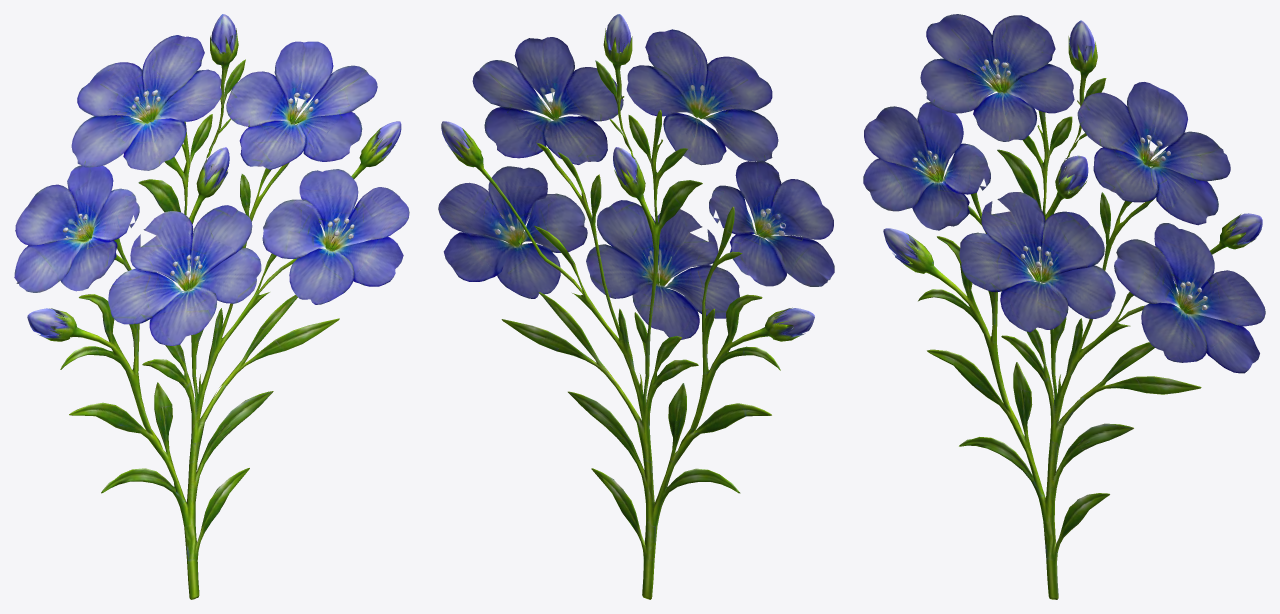
File: flax.glb
The picture shows the model from 3 angles, left to right: view 1: azimuth 30°, elevation 25°; view 2: azimuth 150°, elevation 25°; view 3: azimuth 330°, elevation 25°; orthographic projection.
Parts seen in each view (by area): view 1: geometry_0; view 2: geometry_0; view 3: geometry_0.
Boxes of the visible parts, <box> form: geometry_0: <box>14,14,409,599</box>; geometry_0: <box>438,14,834,599</box>; geometry_0: <box>863,14,1265,599</box>.
Size of the model in its own units: 0.6816 by 0.9517 by 0.0259.
Materials: 1 (1 with a texture image).
